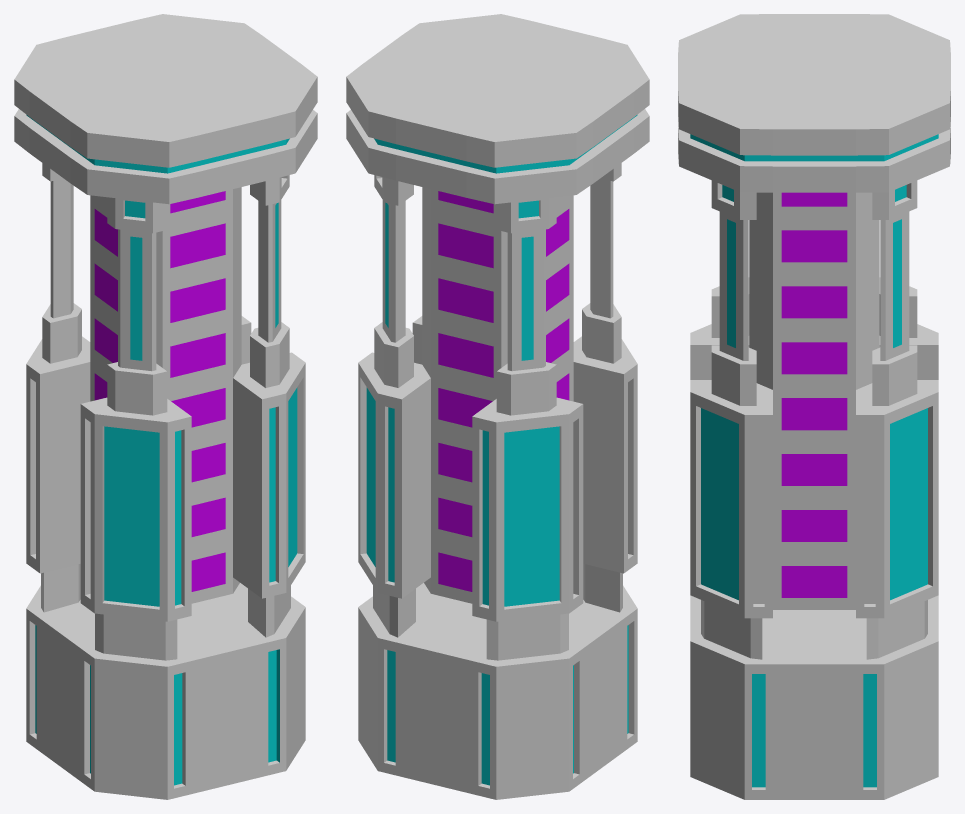
Rendered from SM_Building_Med_1.fbx.
3 views of the same model, side by side, from view 1: azimuth 30°, elevation 25°; view 2: azimuth 150°, elevation 25°; view 3: azimuth 270°, elevation 25° (orthographic).
Visible parts, largest first — view 1: building_08.002; view 2: building_08.002; view 3: building_08.002.
Part boxes in pixels (x1,y1,x2,y2): building_08.002: (14, 14, 317, 799); building_08.002: (346, 14, 649, 799); building_08.002: (678, 14, 950, 799).
Size of the model in its own units: 8.78 by 24 by 8.78.
